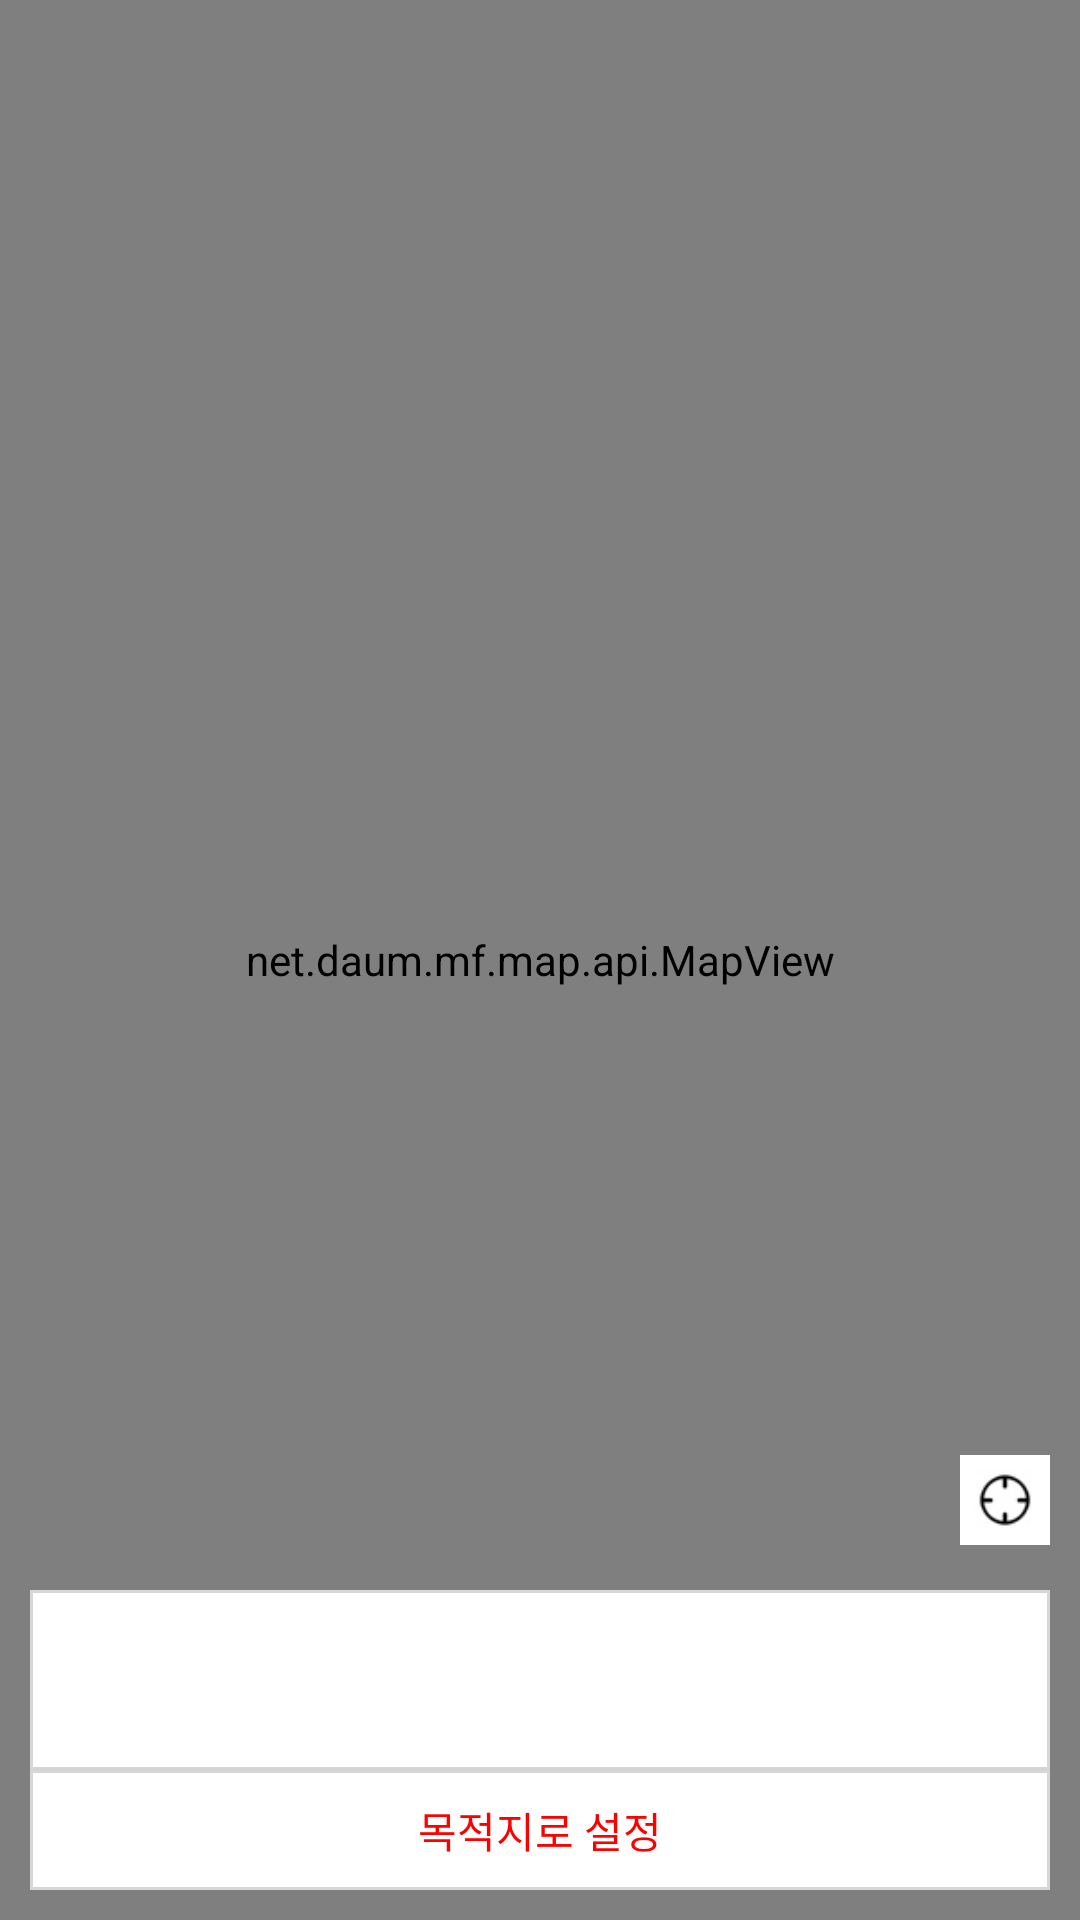

Named icons in this screenshot (1080px×1920px) and their centers, (x=x, y=y):
location: (x=1005, y=1500)
